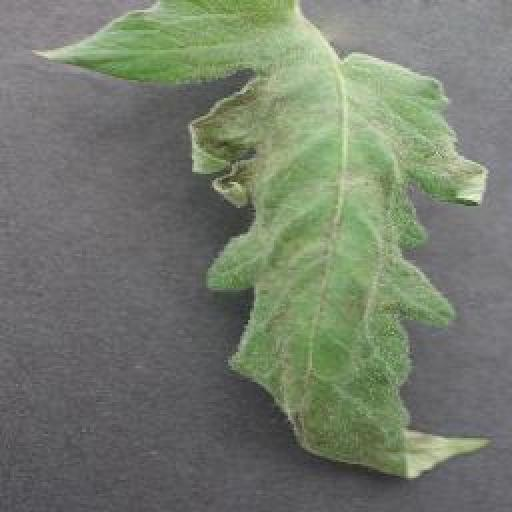disease_tomato: (29, 0, 499, 480)
